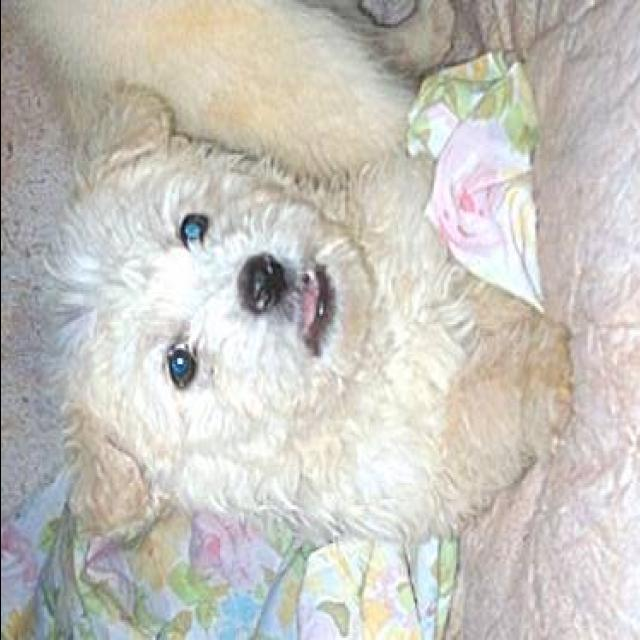dog: (45, 58, 593, 580)
